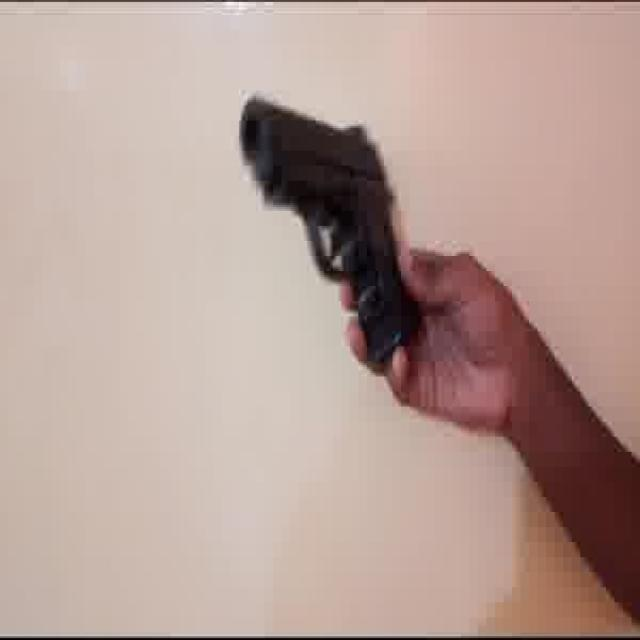weapon: (239, 89, 427, 377)
